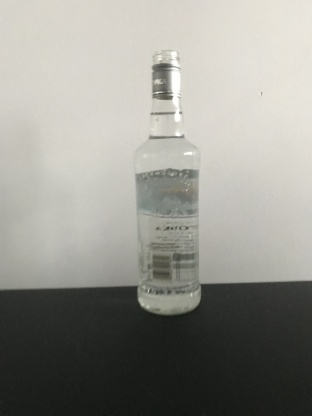nakretka: (150, 48, 182, 100)
